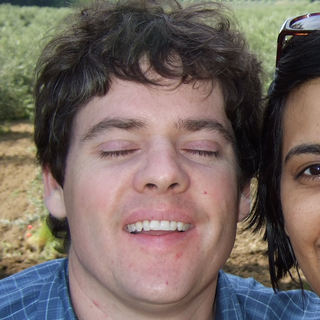eye: (286, 159, 320, 182)
